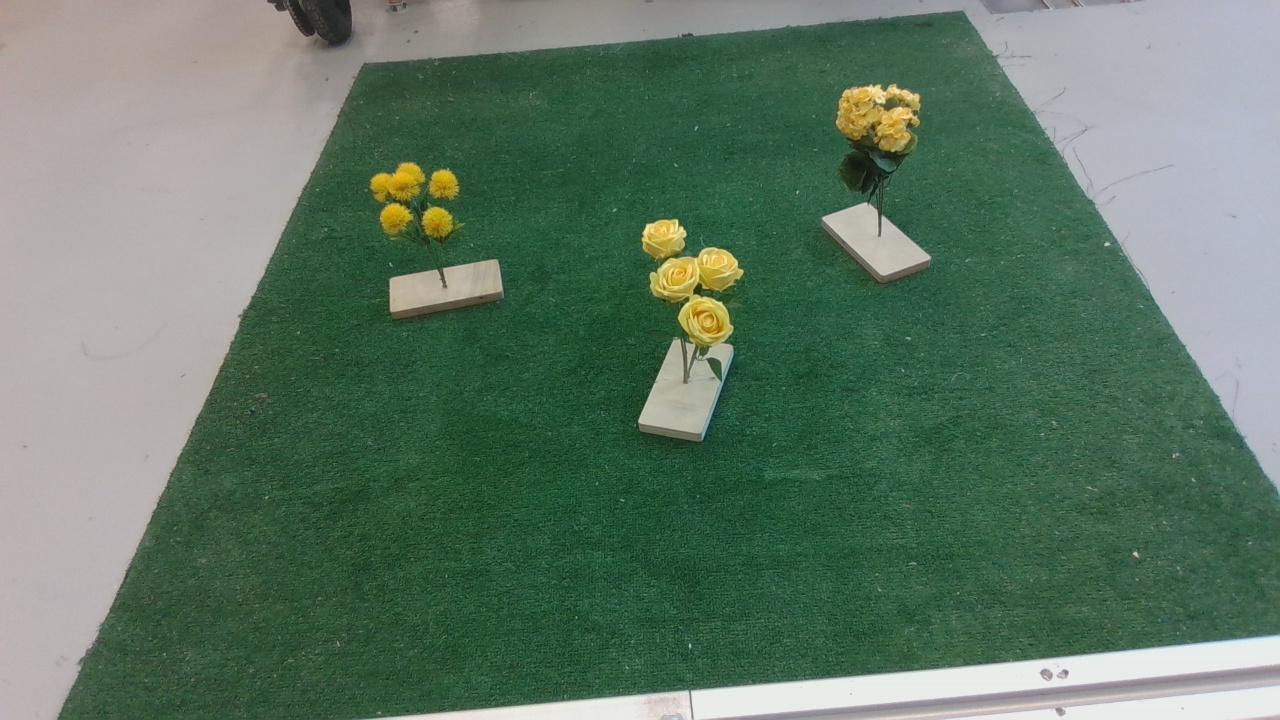dandelion: (356, 164, 483, 262)
geranium: (835, 77, 931, 208)
rose: (640, 210, 747, 389)
